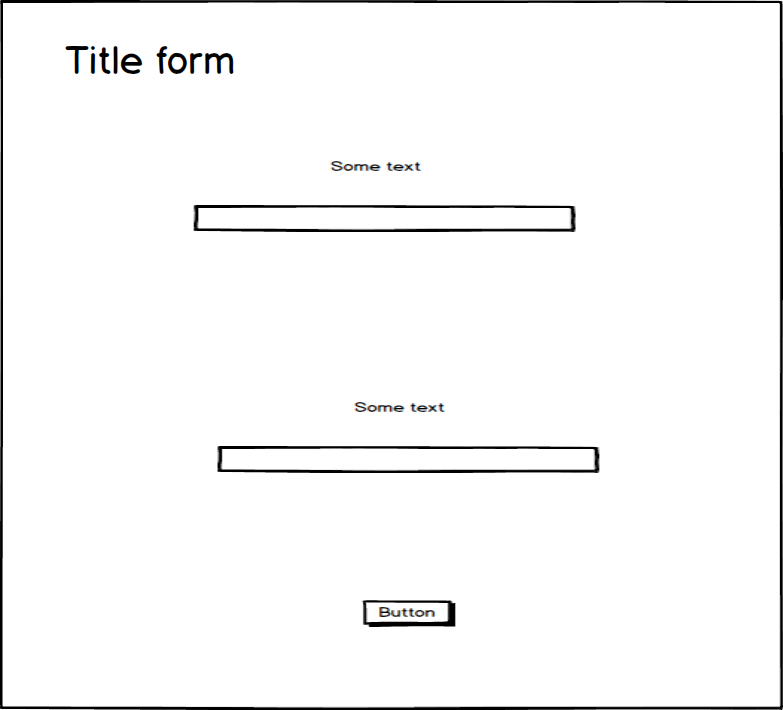button: (355, 597, 466, 633)
h1: (60, 39, 255, 88)
input: (210, 437, 609, 482), (187, 202, 583, 239)
label: (321, 146, 444, 184), (349, 395, 456, 425)
